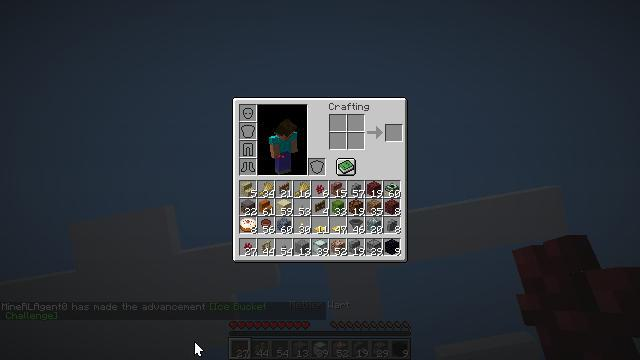cursor: (341, 194, 357, 204)
